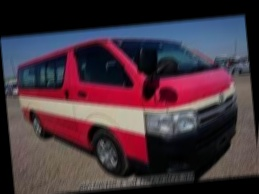van: (17, 25, 246, 185)
